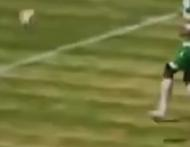ball: (13, 5, 41, 33)
